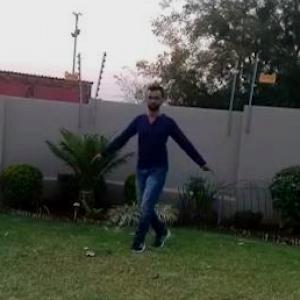land: (102, 92, 215, 241)
